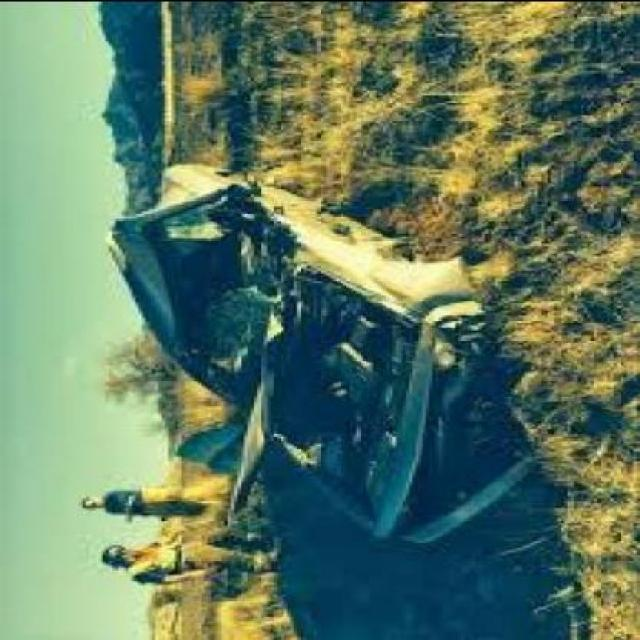damage: (114, 171, 485, 548)
